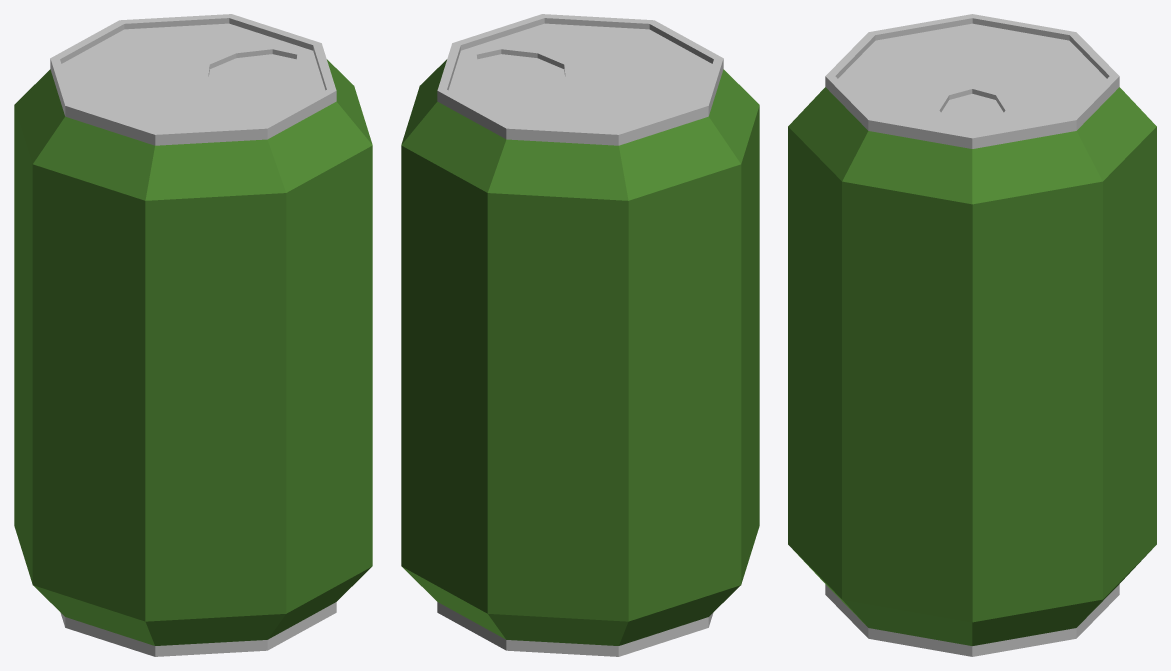
File: can3.fbx
The picture shows the model from 3 angles, left to right: view 1: azimuth 30°, elevation 25°; view 2: azimuth 150°, elevation 25°; view 3: azimuth 270°, elevation 25°; orthographic projection.
Parts seen in each view (by area): view 1: can3; view 2: can3; view 3: can3.
Boxes of the visible parts, box(x1,y1,x2,y2) form: can3: box(14, 14, 372, 656); can3: box(401, 14, 759, 656); can3: box(788, 14, 1156, 656).
Size of the model in its own units: 0.0899 by 0.1395 by 0.0899.
